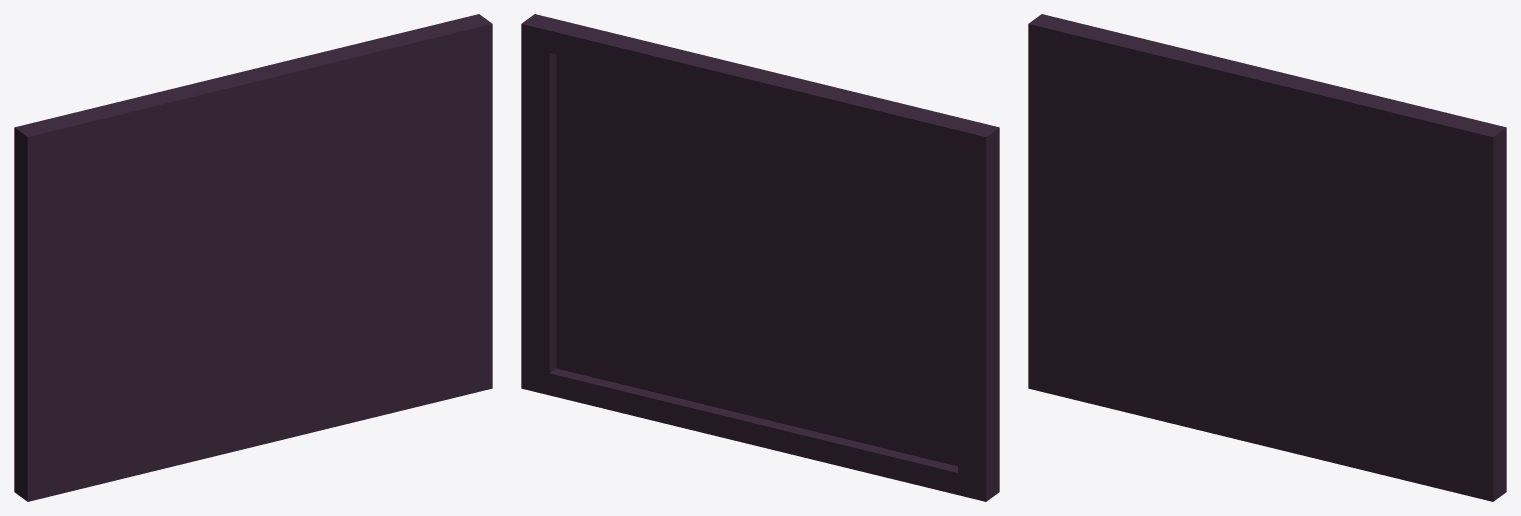
The model's file is PictureFrame_B01.fbx.
The picture shows the model from 3 angles, left to right: view 1: azimuth 30°, elevation 25°; view 2: azimuth 150°, elevation 25°; view 3: azimuth 330°, elevation 25°; orthographic projection.
Visible parts, largest first — view 1: Picture Frame 002; view 2: Picture Frame 002; view 3: Picture Frame 002.
Part boxes in pixels (bbox=[...]): Picture Frame 002: bbox=[14, 14, 492, 501]; Picture Frame 002: bbox=[521, 14, 999, 501]; Picture Frame 002: bbox=[1028, 14, 1506, 501].
Bounding box in the file's own units: 122 × 91.7 × 6.11.
